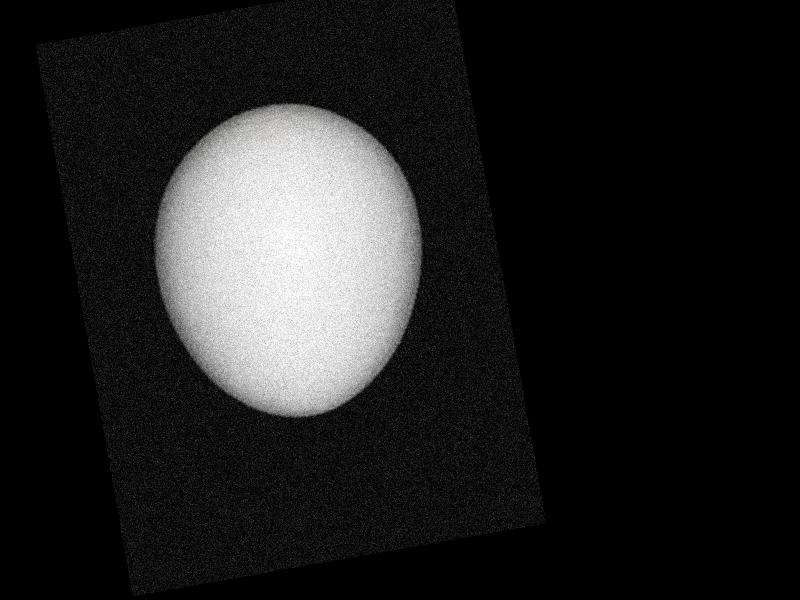Eggs: (131, 84, 448, 435)
